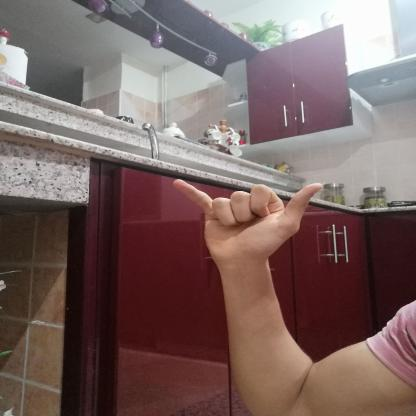YA: (156, 163, 338, 272)
